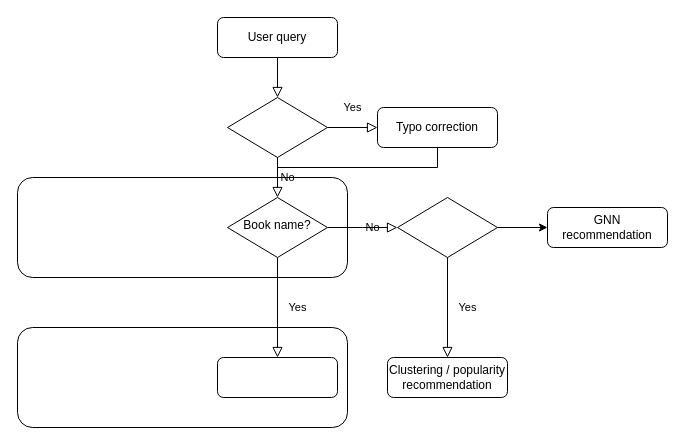
Some shapes in this 685 by 445 pixel diagram are drawn without their labels. Each missing label, with the centre of its shape:
Cold start?: (447,227)
Search: (277,377)
Typo?: (277,127)
